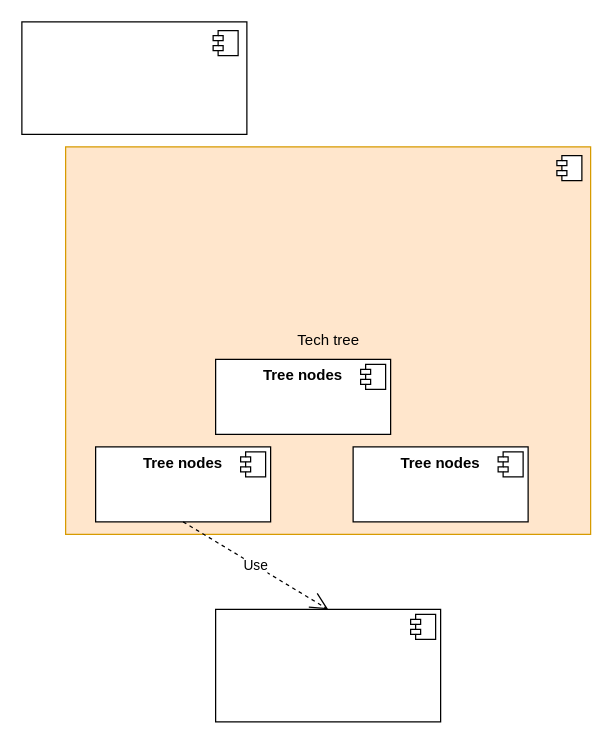
Image size: 613x744. Some labels were removed from this diagram. Here are the shapes that lost their labels. From the top down, the box of each, then its label:
(21, 21, 247, 134): Player tech store
(214, 608, 441, 722): Tech action
